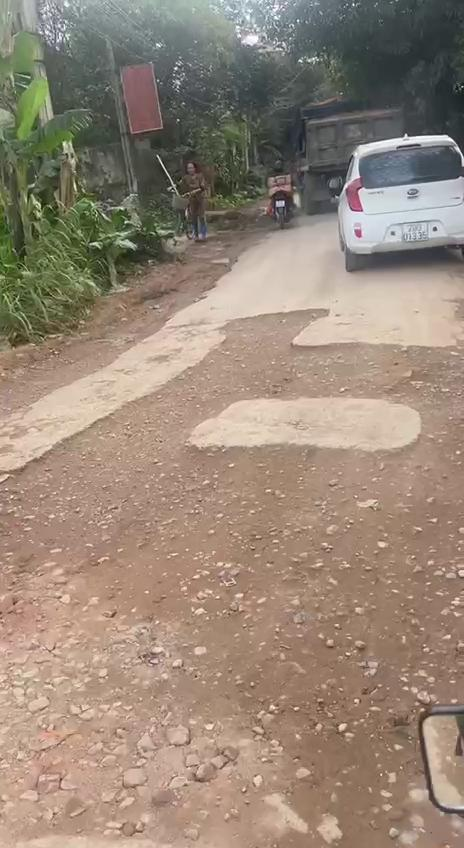pothole: (0, 301, 464, 848)
